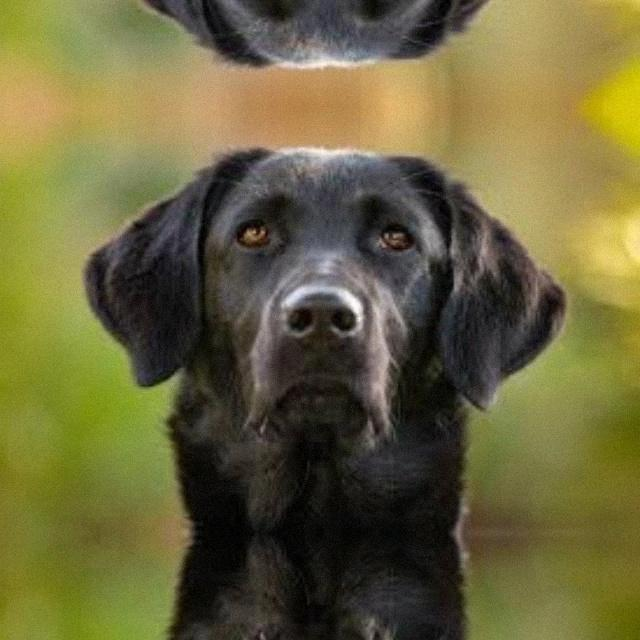dog: (76, 122, 574, 470), (76, 0, 575, 92), (76, 594, 575, 640)
